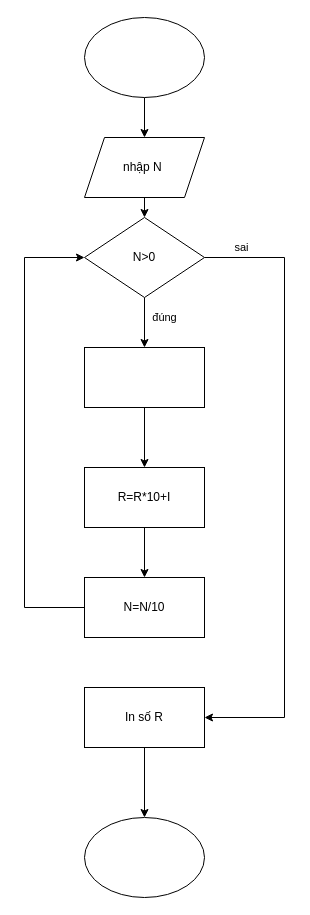
Image size: 310x915. Some labels were removed from this diagram. Each missing label, with the box of its shape:
end: (84, 816, 204, 898)
I=N%10: (84, 346, 204, 408)
start: (84, 16, 204, 98)
